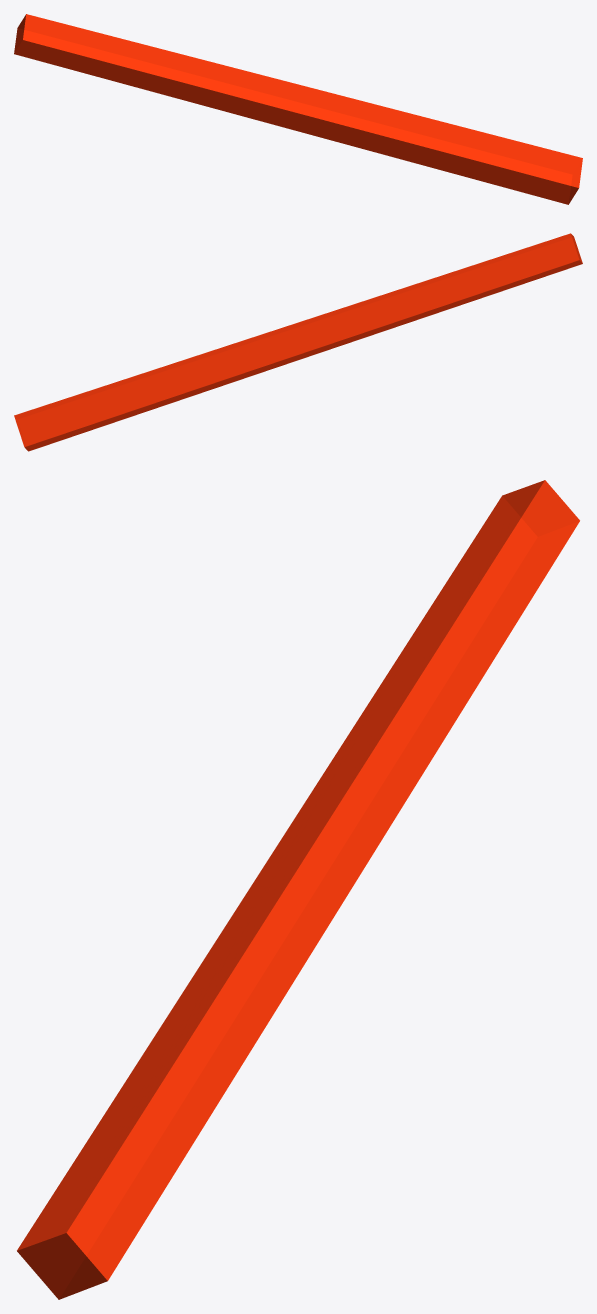
Rendered from Event_421278790_EBrechit_10.fbx.
The picture shows the model from 3 angles, top to bottom: view 1: azimuth 30°, elevation 25°; view 2: azimuth 210°, elevation 25°; view 3: azimuth 270°, elevation 25°; orthographic projection. The views are drawn at different scales.
Parts seen in each view (by area): view 1: Model; view 2: Model; view 3: Model.
Boxes of the visible parts, x1,y1,x2,y2 form: Model: (14,14,582,204); Model: (14,233,582,451); Model: (17,480,579,1299).
Size of the model in its own units: 1.01 by 0.4382 by 0.5468.
